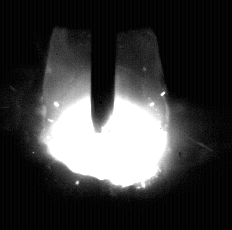arame: (91, 0, 115, 133)
poca: (41, 0, 168, 230)
